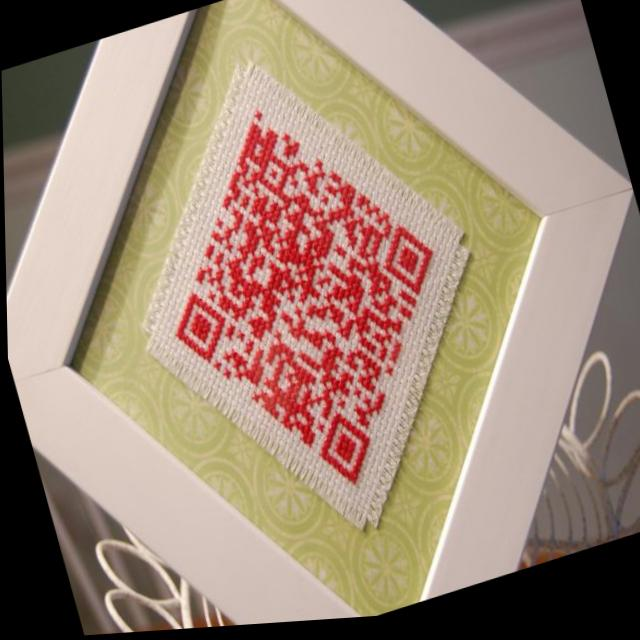qrcode: (123, 70, 485, 534)
